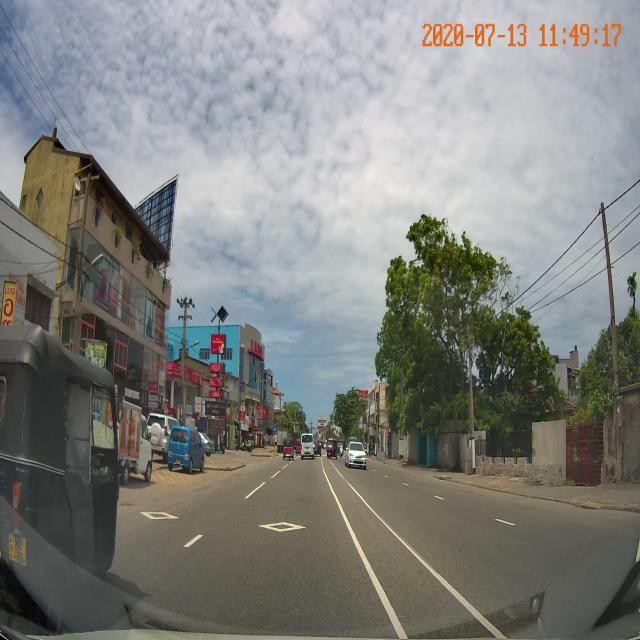diamond: (179, 495, 372, 559)
